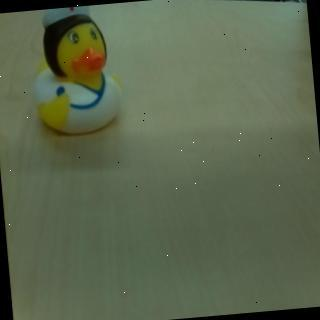duck_specialty: (26, 5, 128, 140)
